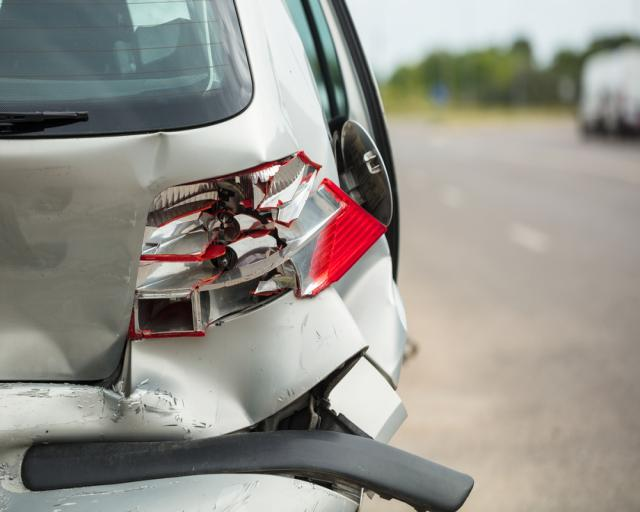dent: (0, 225, 131, 376), (132, 307, 282, 436), (130, 133, 170, 187)
lamp broken: (134, 152, 391, 343)
